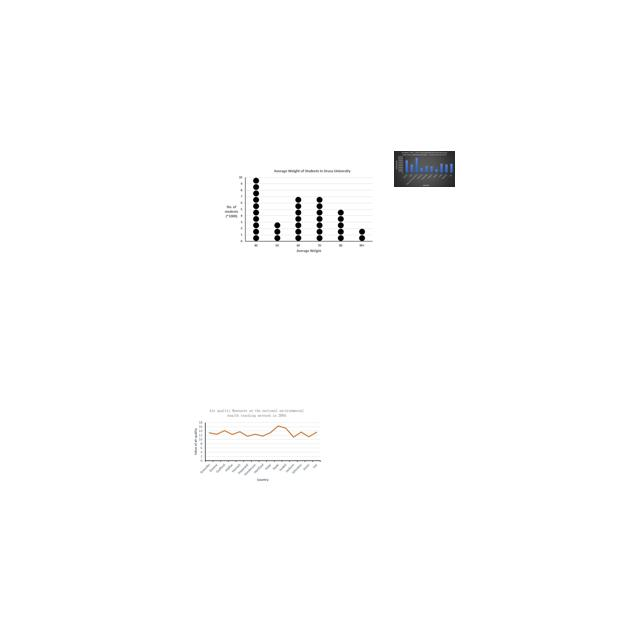Graph: (221, 167, 375, 256), (190, 406, 324, 484), (394, 151, 455, 187)
